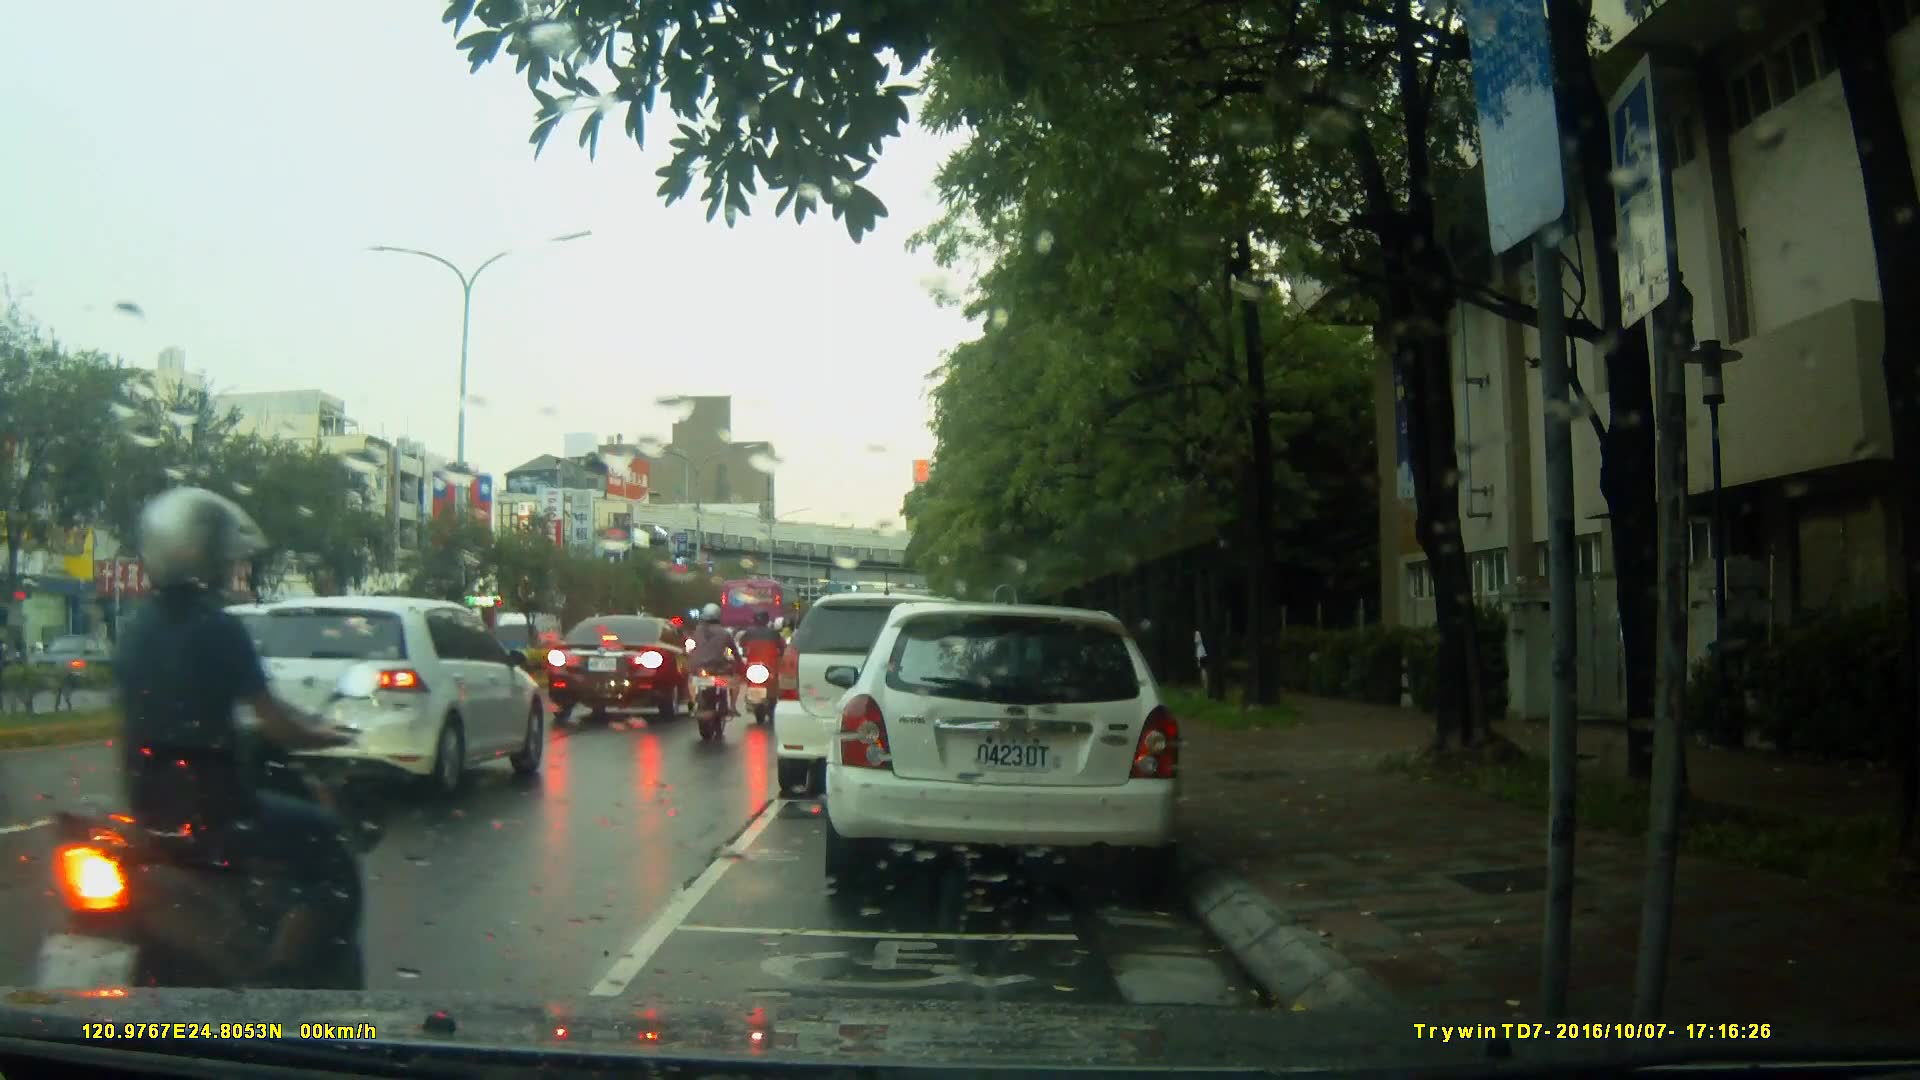rider: (39, 489, 365, 1036), (685, 602, 742, 749), (739, 604, 789, 729)
vehicle: (835, 594, 1194, 898), (215, 591, 545, 804), (776, 590, 1026, 784), (543, 612, 709, 727), (719, 578, 804, 648)
